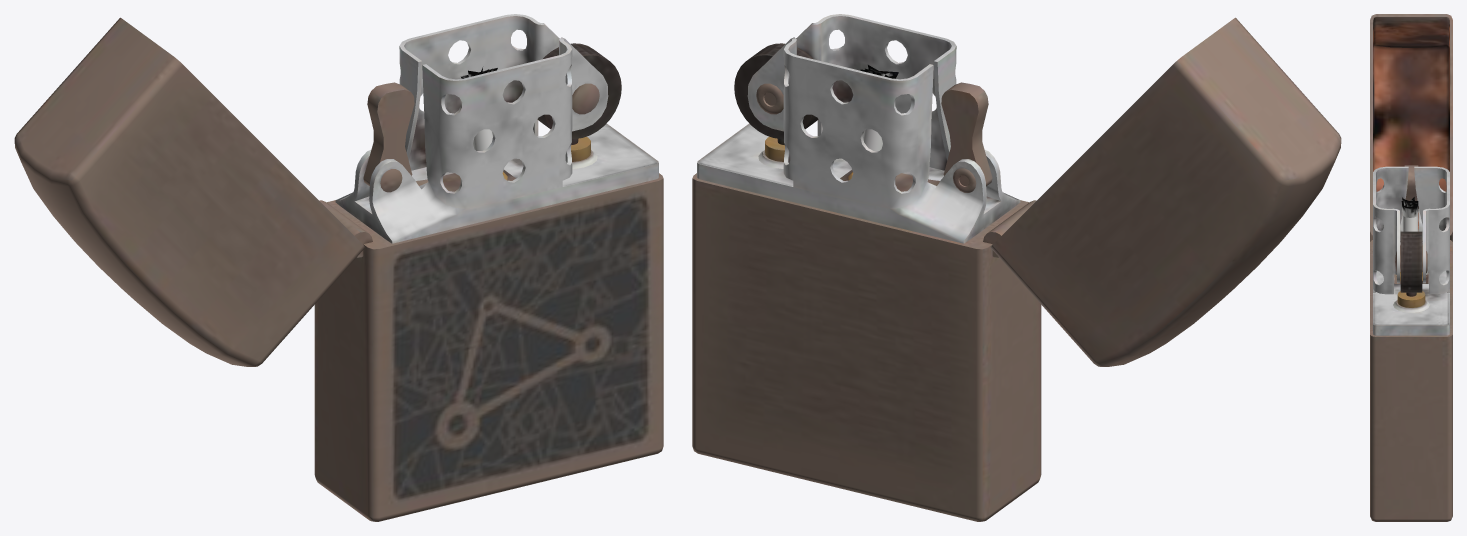
The model's file is vintage_lighter.glb.
The picture shows the model from 3 angles, left to right: view 1: azimuth 30°, elevation 25°; view 2: azimuth 150°, elevation 25°; view 3: azimuth 270°, elevation 25°; orthographic projection. The views are drawn at different scales.
Parts seen in each view (by area): view 1: vintage_lighter_body, vintage_lighter_hinge, vintage_lighter_hammer, vintage_lighter_flintstone; view 2: vintage_lighter_body, vintage_lighter_hinge, vintage_lighter_hammer, vintage_lighter_flintstone; view 3: vintage_lighter_body, vintage_lighter_hinge, vintage_lighter_flintstone, vintage_lighter_hammer.
Boxes of the visible parts, x1,y1,x2,y2 form: vintage_lighter_body: [314, 14, 663, 521]; vintage_lighter_hinge: [14, 17, 372, 366]; vintage_lighter_hammer: [363, 82, 414, 192]; vintage_lighter_flintstone: [537, 43, 621, 138]; vintage_lighter_body: [692, 14, 1041, 521]; vintage_lighter_hinge: [983, 17, 1341, 366]; vintage_lighter_hammer: [941, 82, 992, 192]; vintage_lighter_flintstone: [734, 43, 818, 138]; vintage_lighter_body: [1370, 166, 1452, 521]; vintage_lighter_hinge: [1370, 14, 1452, 241]; vintage_lighter_flintstone: [1395, 231, 1427, 292]; vintage_lighter_hammer: [1404, 165, 1418, 225].
Bounding box in the file's own units: 0.0796 × 0.065 × 0.014.
2 materials, 2 textured.
